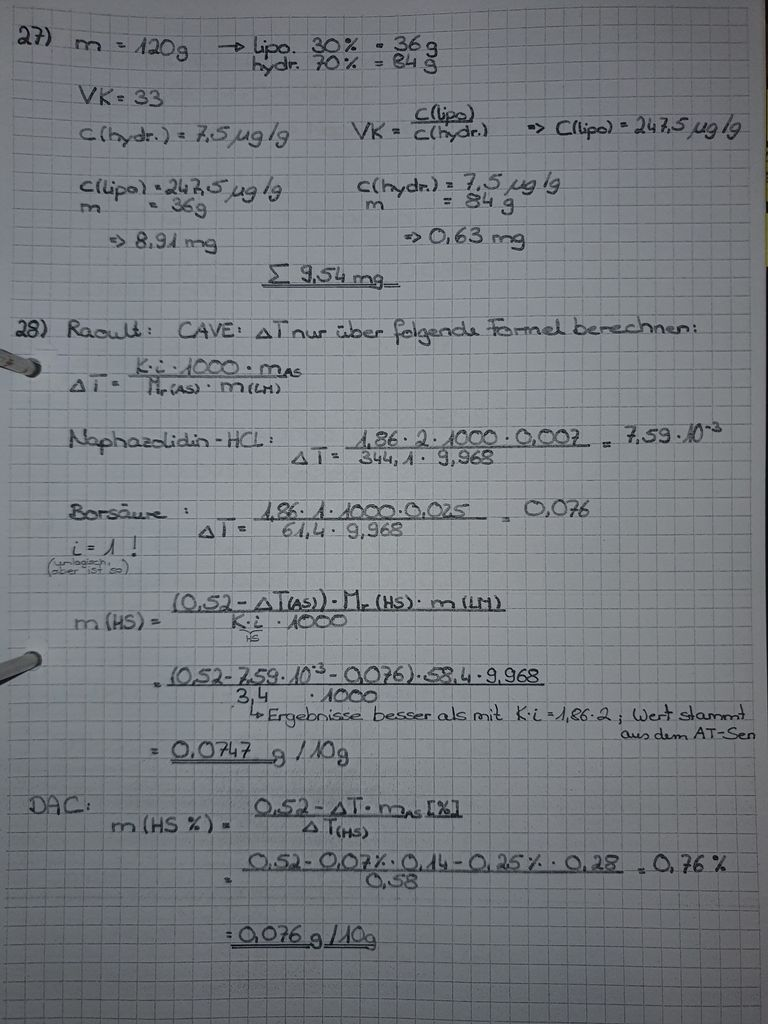equals: (107, 32, 132, 56), (144, 739, 164, 762), (145, 611, 165, 632), (217, 815, 237, 835), (172, 126, 191, 145), (441, 171, 460, 190), (598, 436, 617, 455), (220, 869, 237, 890), (440, 194, 458, 213), (634, 861, 650, 882), (107, 374, 122, 395), (616, 114, 632, 133), (389, 123, 406, 139), (144, 198, 161, 214), (150, 677, 166, 693), (498, 513, 515, 528), (326, 449, 345, 462), (150, 177, 165, 192), (84, 539, 98, 555), (372, 38, 386, 53), (372, 56, 386, 71), (235, 521, 250, 535), (114, 91, 128, 105), (543, 707, 557, 721), (223, 926, 235, 941)
equation: (222, 840, 731, 897), (66, 584, 512, 645), (288, 419, 729, 469), (150, 651, 552, 705), (196, 492, 596, 543), (105, 788, 471, 840), (59, 345, 308, 401), (143, 728, 358, 772), (73, 115, 297, 152), (347, 162, 564, 198), (344, 99, 496, 147), (550, 110, 747, 143), (74, 171, 285, 201), (65, 21, 196, 68), (222, 916, 386, 950), (350, 193, 531, 222), (73, 195, 223, 225), (310, 51, 445, 79), (307, 29, 442, 55), (66, 82, 174, 110), (513, 700, 616, 727), (65, 531, 129, 560)
fraction: (242, 846, 625, 892), (168, 658, 546, 700), (166, 588, 505, 634), (343, 423, 590, 472), (249, 497, 489, 540), (245, 793, 465, 838), (124, 353, 302, 401), (165, 734, 353, 769), (238, 921, 381, 948)
term: (625, 419, 730, 453), (109, 806, 218, 837), (166, 173, 280, 202), (462, 166, 562, 196), (193, 119, 292, 148), (635, 112, 744, 138), (79, 120, 169, 146), (655, 846, 728, 878), (73, 603, 145, 635), (523, 492, 598, 521), (353, 171, 439, 195), (135, 31, 191, 61), (75, 174, 149, 196), (555, 114, 612, 138), (195, 510, 235, 544), (464, 192, 523, 215), (65, 367, 106, 397), (391, 51, 442, 75), (391, 32, 442, 55), (309, 32, 364, 53), (166, 196, 214, 220), (309, 52, 364, 71), (348, 115, 386, 142), (287, 443, 328, 468), (70, 31, 103, 60), (360, 195, 398, 217), (73, 197, 112, 218)
